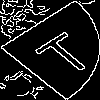T: (25, 24, 99, 79)
